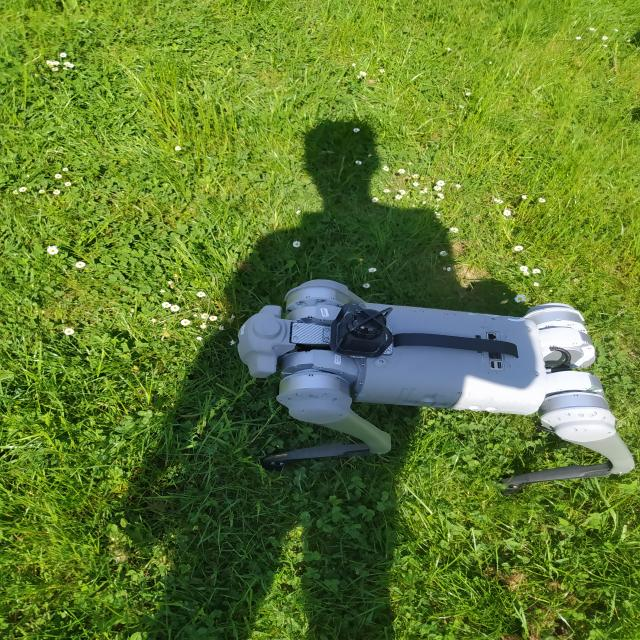unitree-go1-robot: (220, 270, 640, 514)
